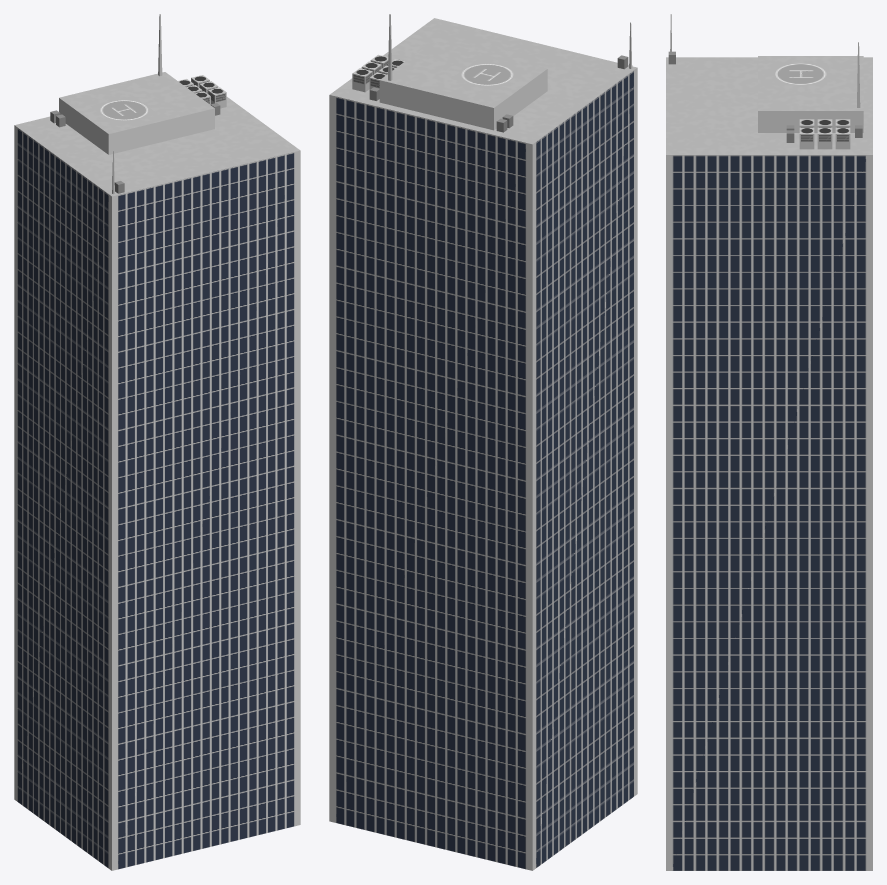
File: Building_H_W1_001.fbx
3 views of the same model, side by side, from view 1: azimuth 30°, elevation 25°; view 2: azimuth 150°, elevation 25°; view 3: azimuth 270°, elevation 25° (orthographic). The views are drawn at different scales.
Visible parts, largest first — view 1: Building_H_W1_001; view 2: Building_H_W1_001; view 3: Building_H_W1_001.
Boxes of the visible parts, box(x1,y1,x2,y2) form: Building_H_W1_001: box(14, 14, 300, 870); Building_H_W1_001: box(329, 14, 637, 870); Building_H_W1_001: box(666, 14, 872, 870).
Bounding box in the file's own units: 55.46 × 213 × 49.64.
